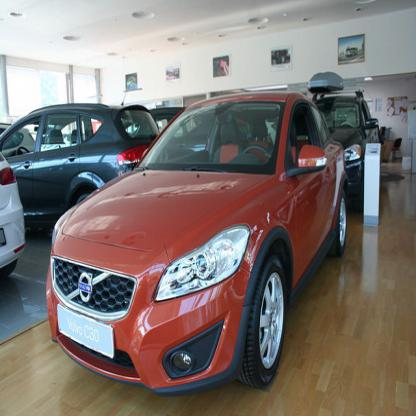Vehicle: (49, 90, 350, 390)
